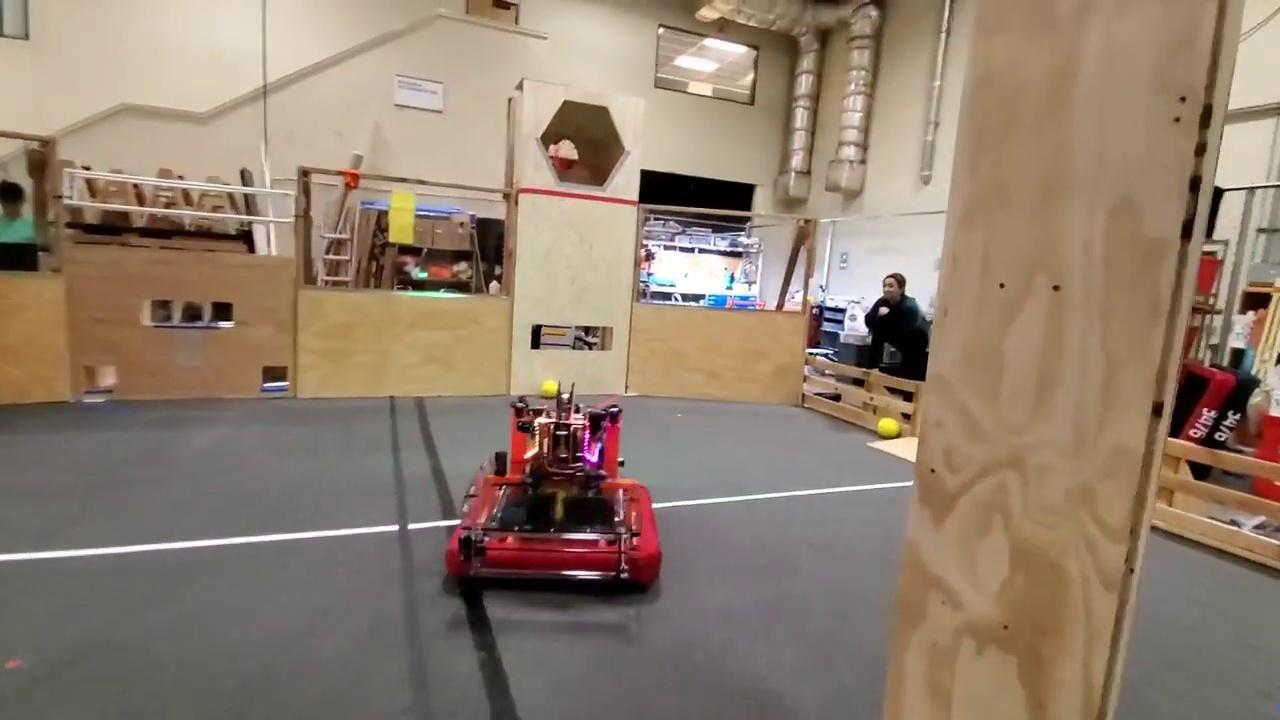robot: (442, 377, 664, 604)
